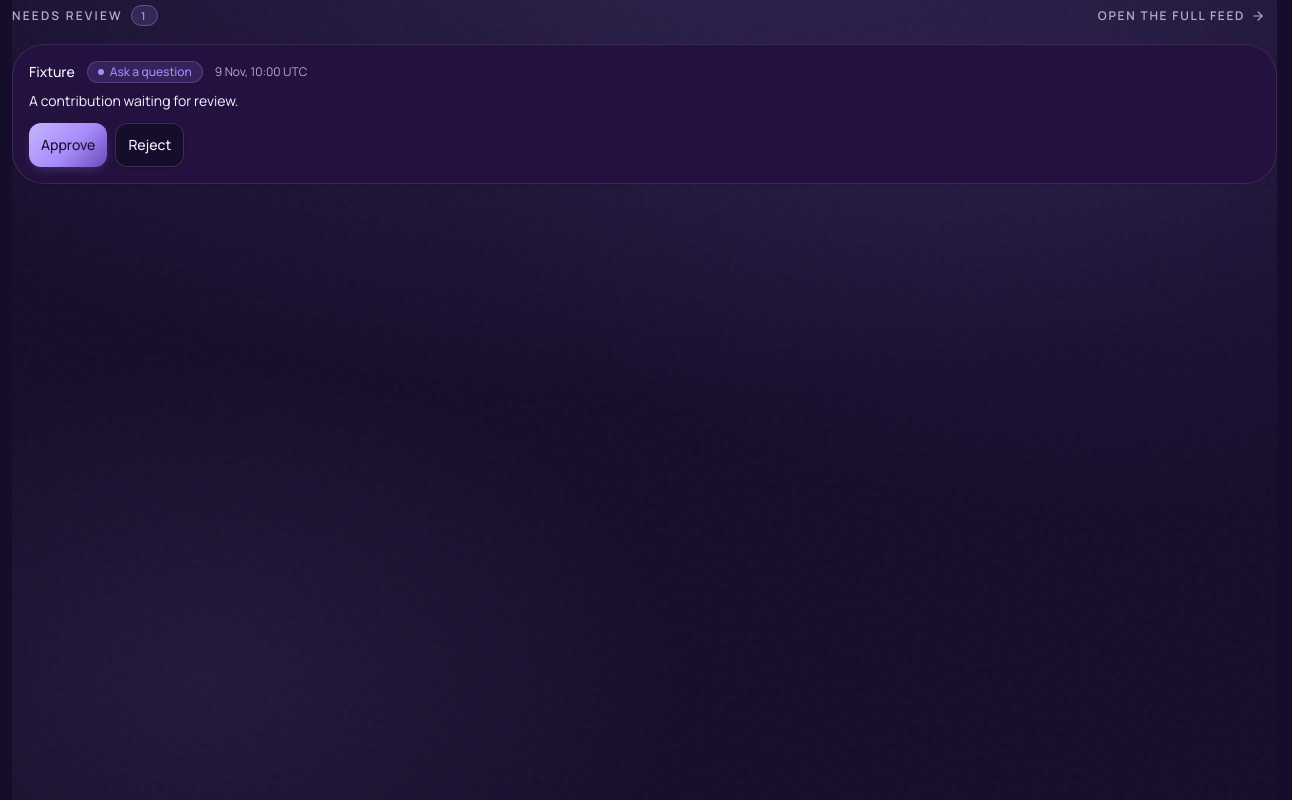
Scenario: validation feedback does not become a generic error or remove a pending contribution
The image size is (1292, 800).
Click the button "Approve": (68, 145) [29,123,107,167]
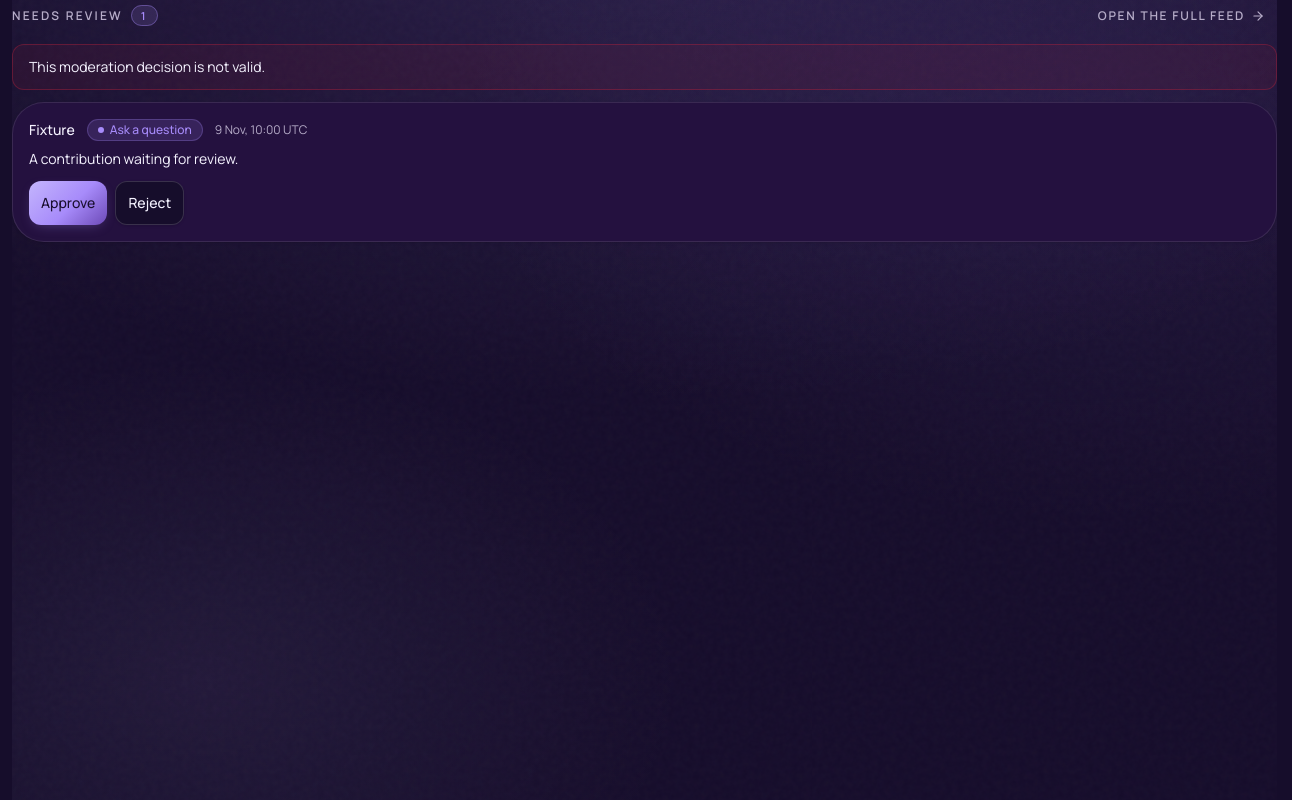
Expected: the text "A contribution waiting for review." is shown, [29,149,238,168]
Expected: the message reads "This moderation decision is not valid.", [29,57,265,76]
